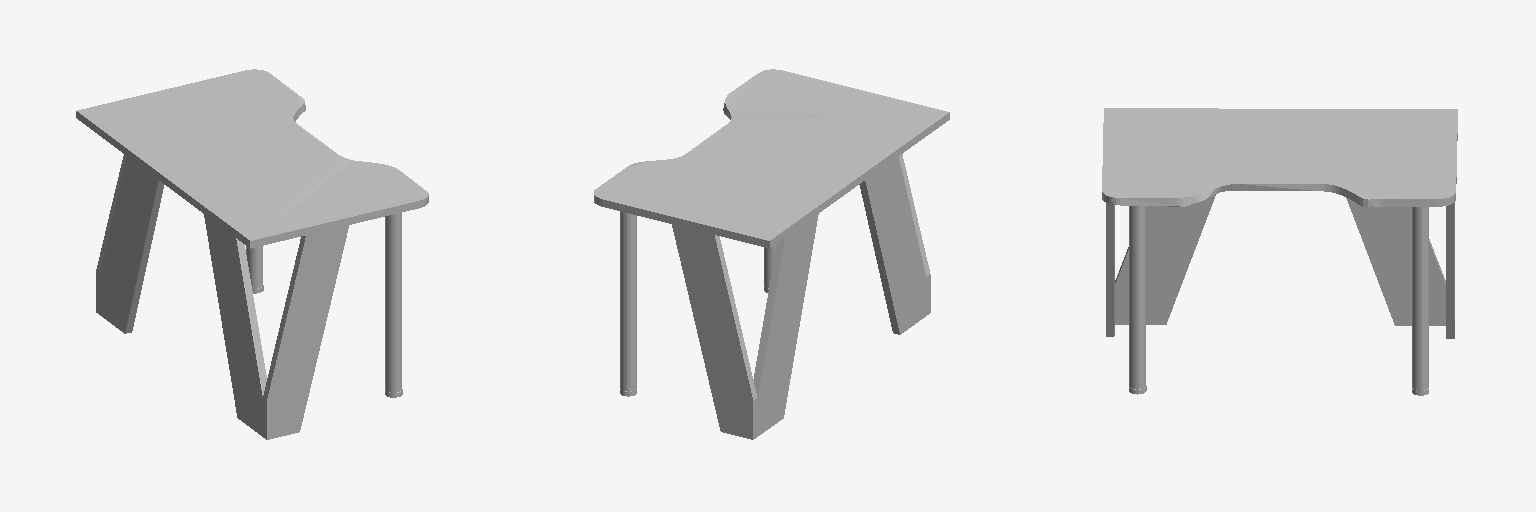
Rendered from deskRotated.obj.
3 views of the same model, side by side, from view 1: azimuth 30°, elevation 25°; view 2: azimuth 150°, elevation 25°; view 3: azimuth 270°, elevation 25° (orthographic).
Parts seen in each view (by area): view 1: table_top, walls, tube; view 2: table_top, walls, tube; view 3: table_top, walls, tube.
Part boxes in pixels (bbox=[...]): table_top: bbox=[76, 69, 428, 248]; walls: bbox=[96, 154, 348, 439]; tube: bbox=[246, 213, 402, 397]; table_top: bbox=[594, 69, 949, 248]; walls: bbox=[672, 154, 930, 439]; tube: bbox=[620, 211, 776, 396]; table_top: bbox=[1102, 108, 1457, 207]; walls: bbox=[1106, 194, 1454, 338]; tube: bbox=[1129, 206, 1428, 395].
Size of the model in its own units: 91.65 by 95.54 by 151.